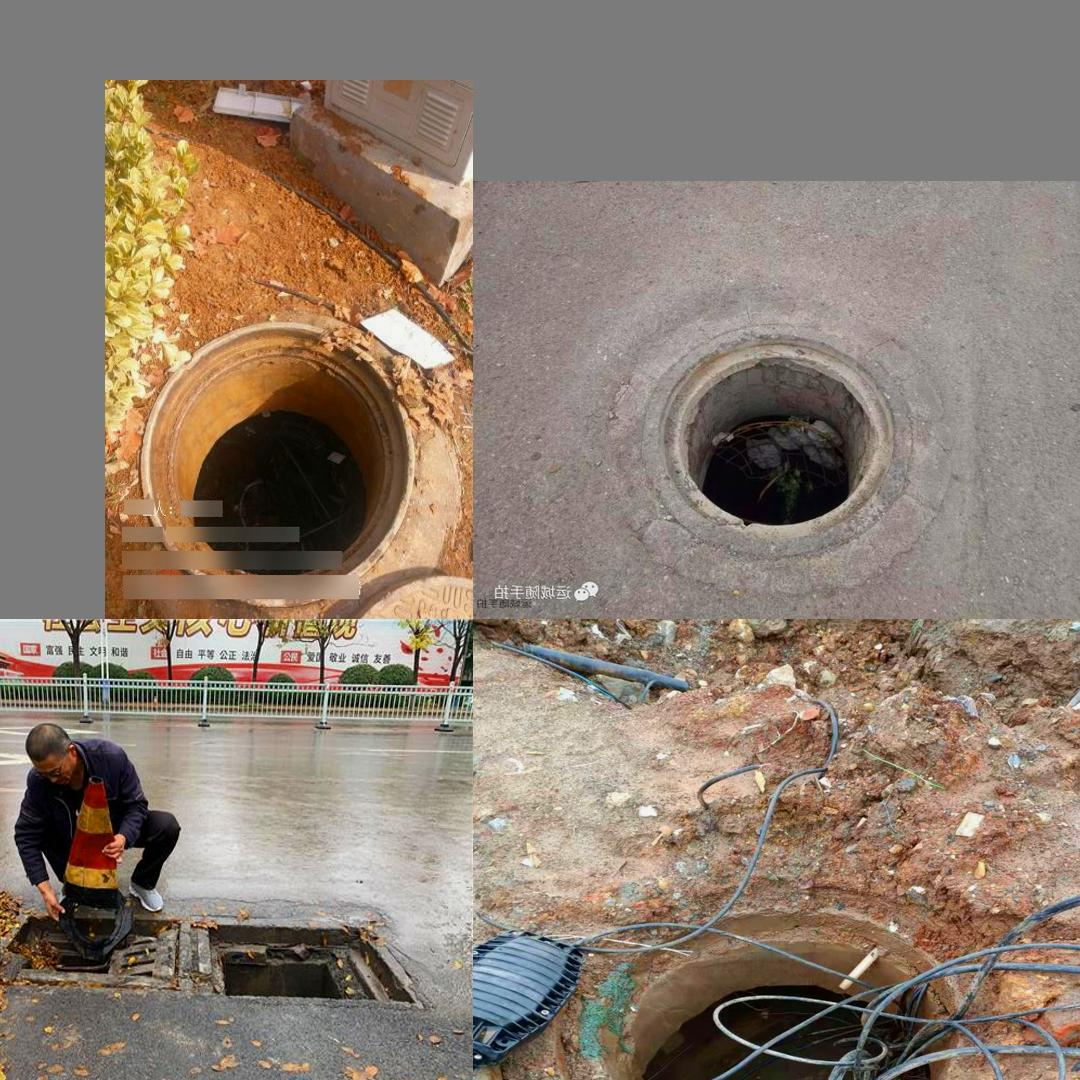lose: (545, 895, 984, 1080), (140, 321, 414, 606), (633, 326, 932, 562), (0, 886, 431, 1020)
